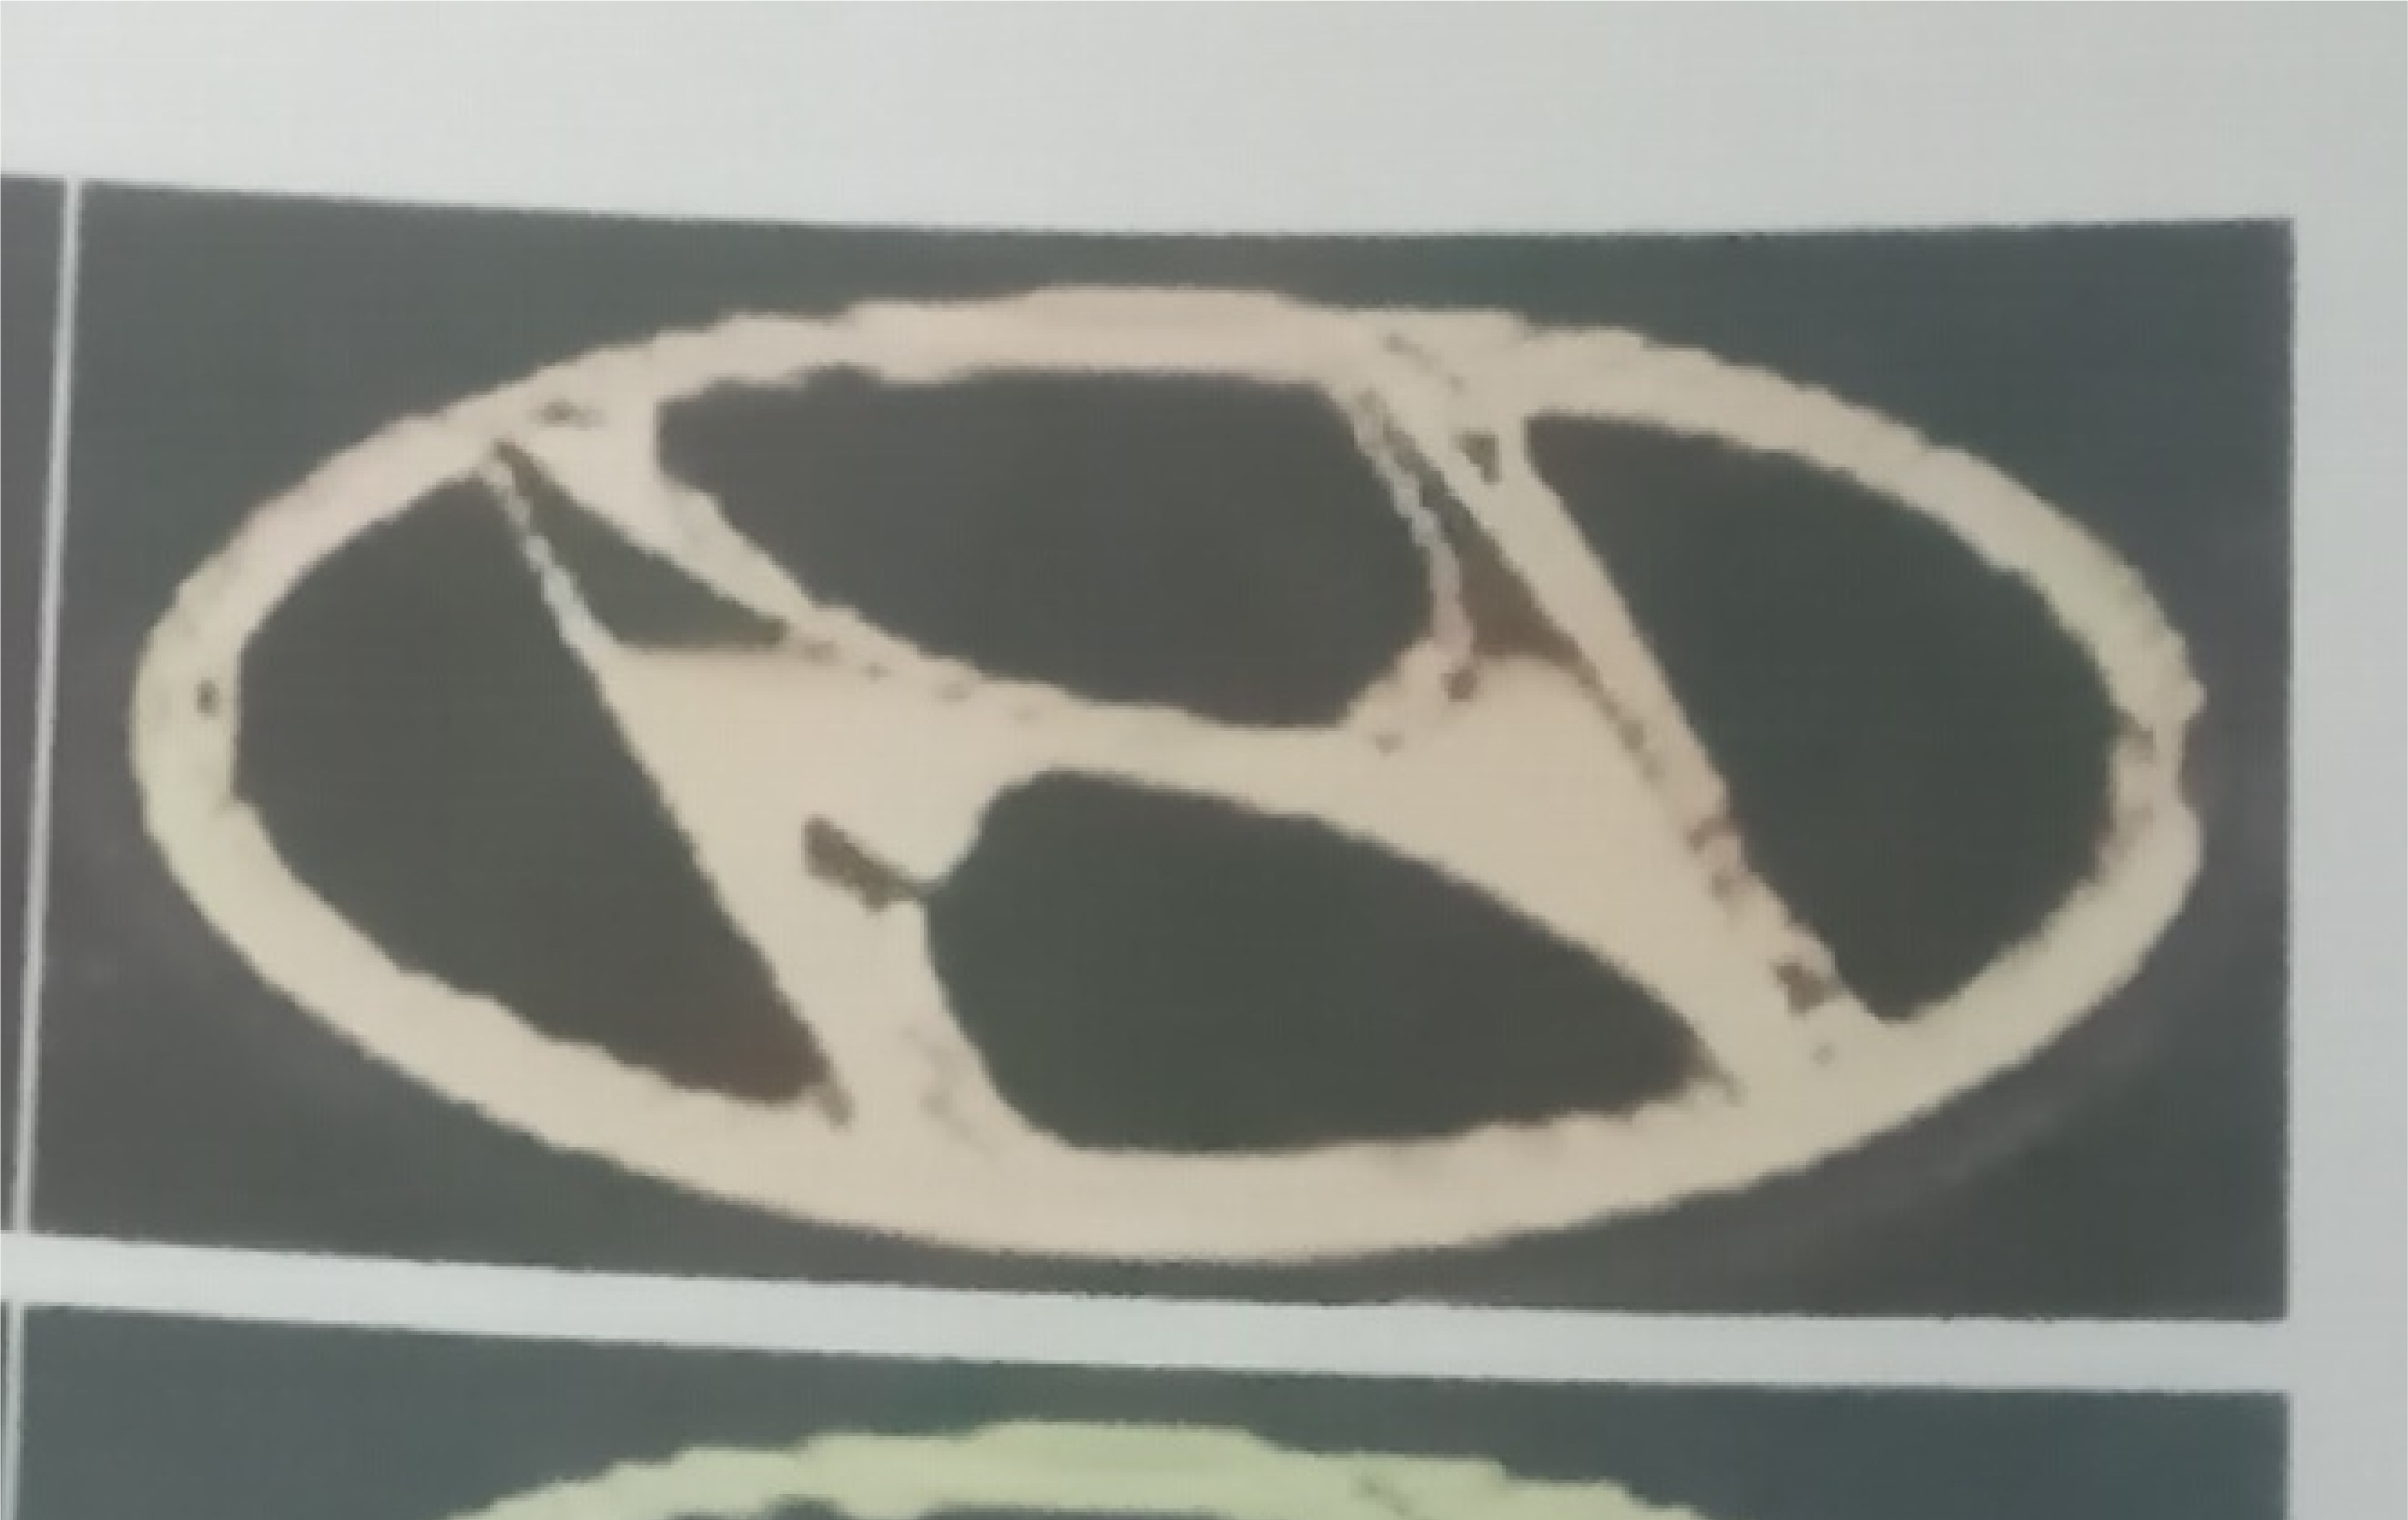Hyundai: (79, 240, 2259, 1282)
